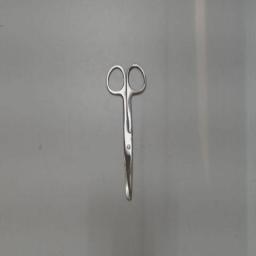Dressing Scissors: (101, 56, 151, 210)
